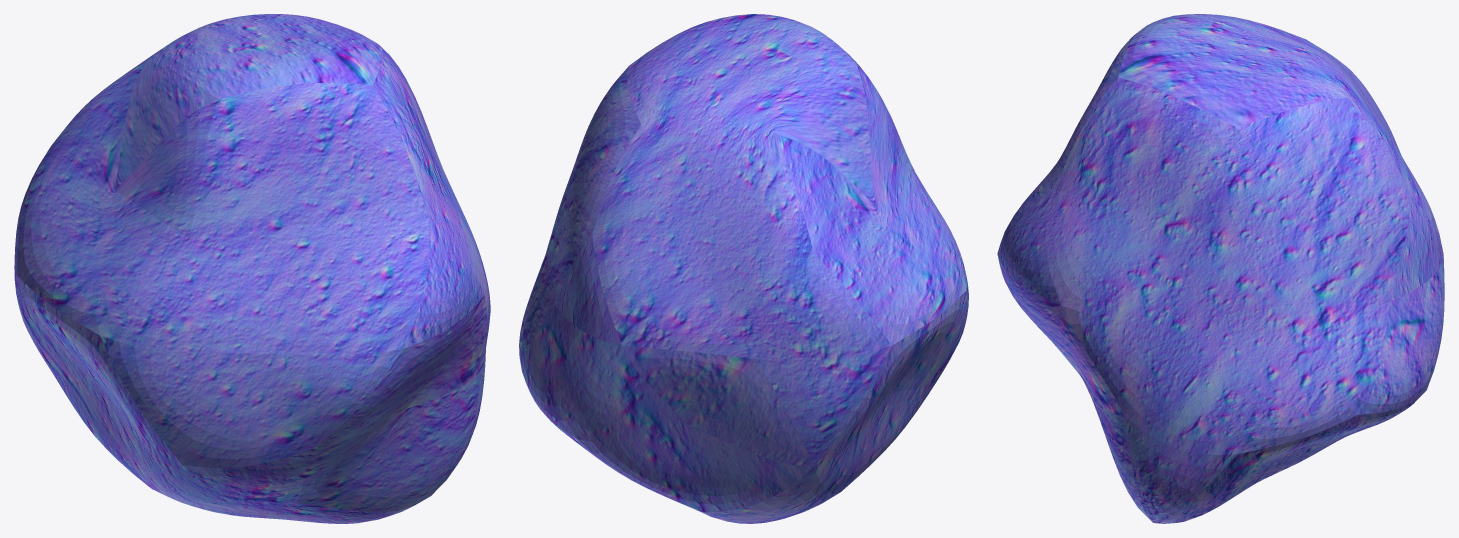
The model's file is mediumasteroid5_LOD1.fbx.
The picture shows the model from 3 angles, left to right: view 1: azimuth 30°, elevation 25°; view 2: azimuth 150°, elevation 25°; view 3: azimuth 270°, elevation 25°; orthographic projection. The views are drawn at different scales.
Visible parts, largest first — view 1: Icosphere; view 2: Icosphere; view 3: Icosphere.
Boxes of the visible parts, x1,y1,x2,y2 form: Icosphere: (14,14,490,523); Icosphere: (519,14,968,523); Icosphere: (997,14,1444,523).
Bounding box in the file's own units: 235 × 267 × 241.
